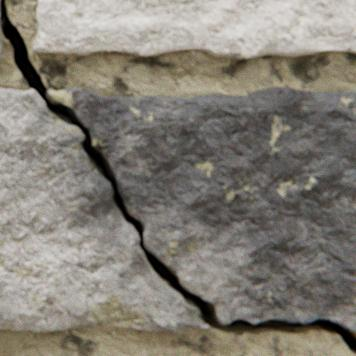brick: (33, 0, 355, 59), (0, 31, 2, 61)
broken_brick: (47, 87, 355, 329), (0, 89, 209, 331)
crack: (0, 0, 355, 355)
